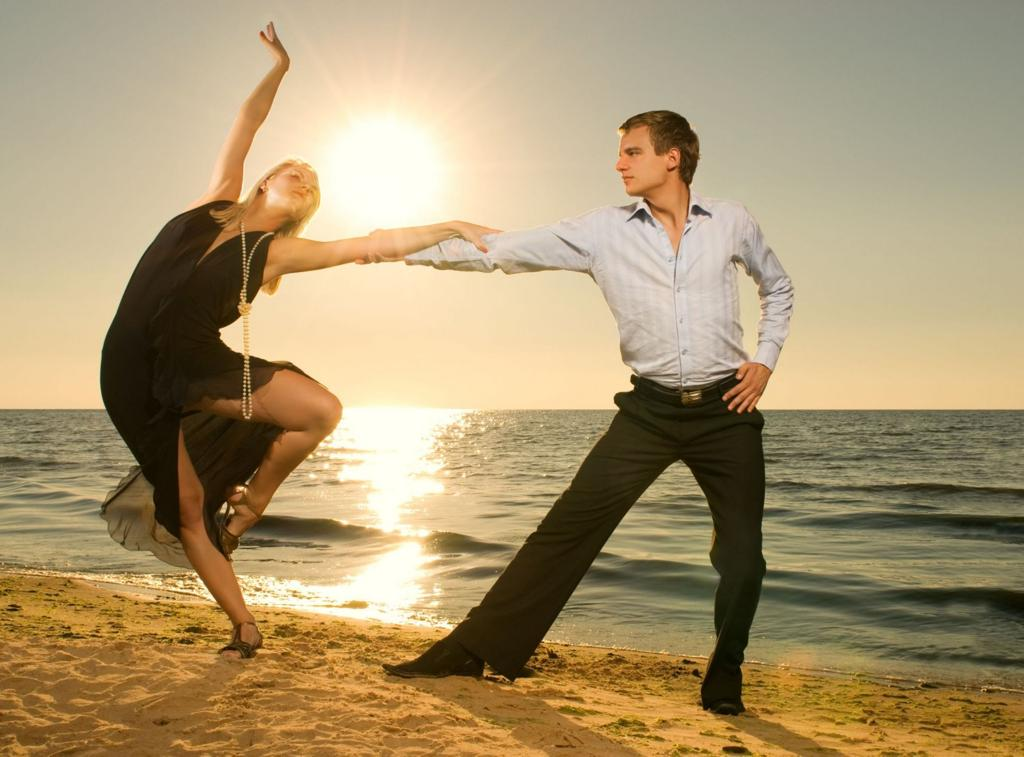face: (616, 128, 667, 194), (268, 166, 318, 208)
